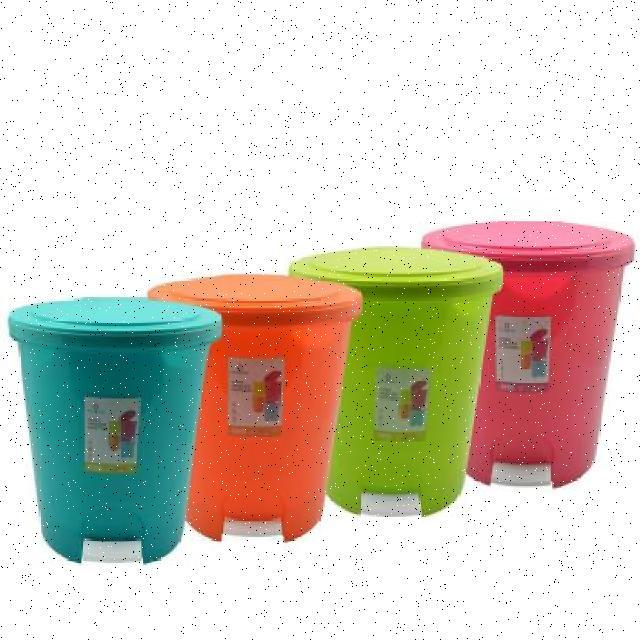garbage container: (284, 250, 513, 532), (9, 296, 220, 581), (181, 266, 367, 566), (462, 220, 640, 492)
